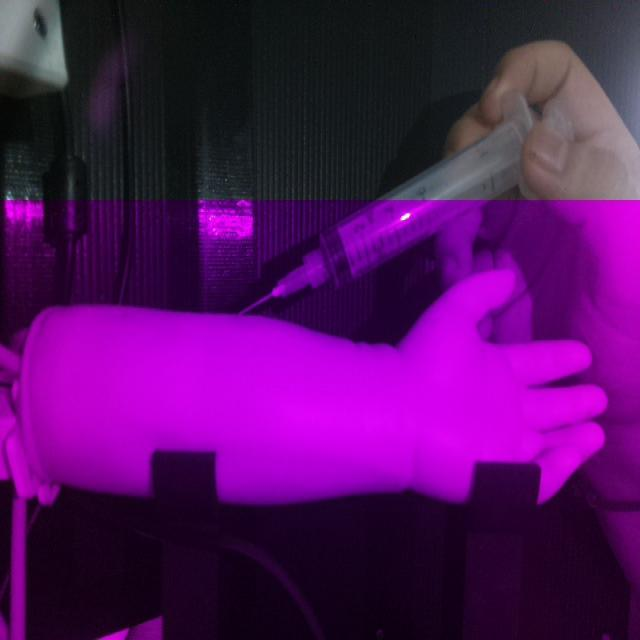Above 30 degrees: (234, 91, 547, 317)
